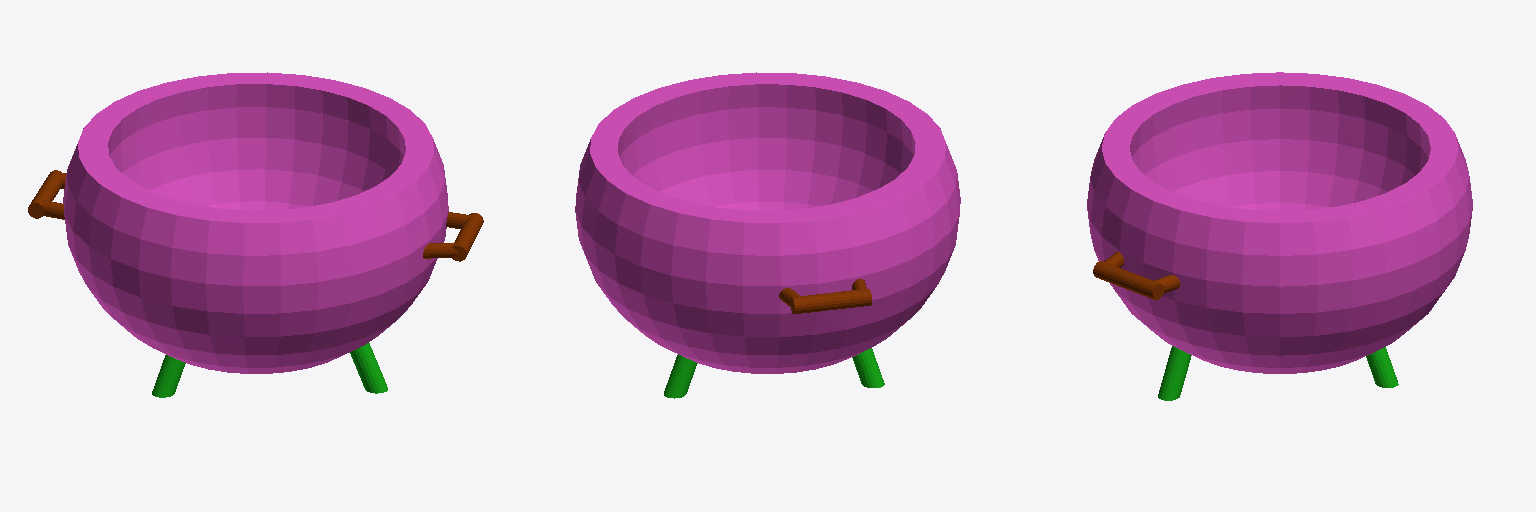
File: roughcauldron1.obj
3 renders of one model, left to right at view 1: azimuth 30°, elevation 25°; view 2: azimuth 150°, elevation 25°; view 3: azimuth 270°, elevation 25°, orthographic.
Visible parts, largest first — view 1: Sphere001, Cylinder002, Cylinder001, Cylinder007, Cylinder004; view 2: Sphere001, Cylinder004, Cylinder003, Cylinder001; view 3: Sphere001, Cylinder007, Cylinder002, Cylinder003.
Part boxes in pixels (bbox=[...]): Sphere001: bbox=[63, 72, 448, 373]; Cylinder002: bbox=[350, 343, 387, 393]; Cylinder001: bbox=[152, 355, 185, 397]; Cylinder007: bbox=[452, 213, 483, 261]; Cylinder004: bbox=[28, 170, 61, 218]; Sphere001: bbox=[575, 72, 960, 373]; Cylinder004: bbox=[791, 289, 871, 313]; Cylinder003: bbox=[664, 354, 697, 398]; Cylinder001: bbox=[852, 348, 884, 387]; Sphere001: bbox=[1087, 72, 1472, 373]; Cylinder007: bbox=[1093, 261, 1163, 299]; Cylinder002: bbox=[1158, 346, 1191, 400]; Cylinder003: bbox=[1366, 347, 1398, 387].
Size of the model in its own units: 2.41 by 1.49 by 2.41.